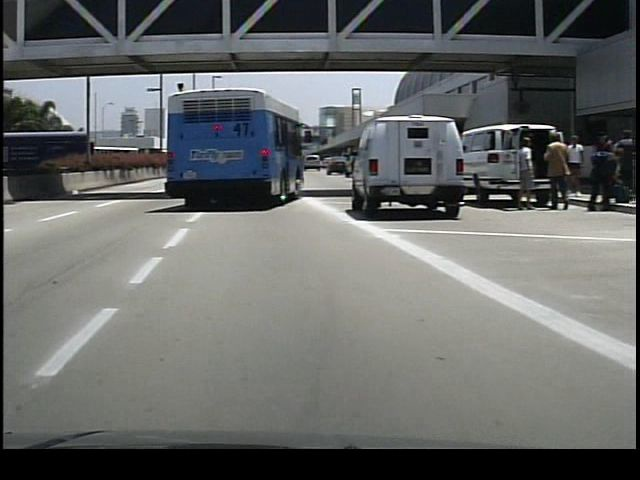person: (536, 130, 567, 214), (508, 133, 532, 214)
